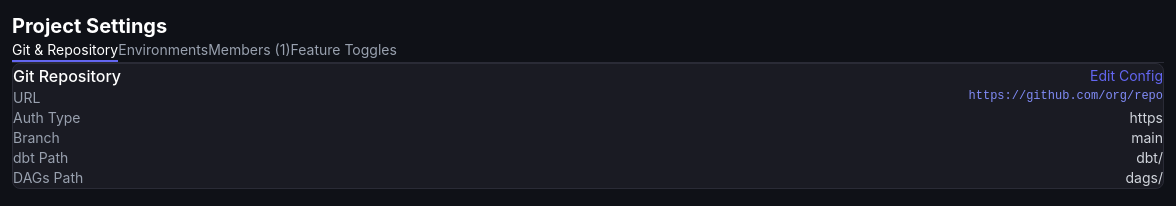
Test: SettingsPage › shows members tab with email and role badge
The width and height of the screenshot is (1176, 206).
Click the button "Members (1)". click: (249, 51)
box: top-left (208, 40), bottom-right (290, 62)
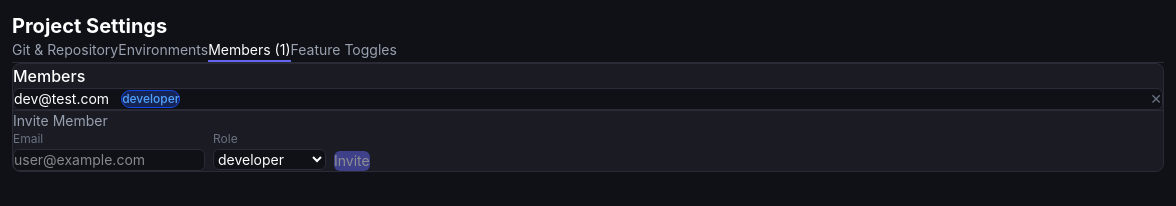
Expected: the text "dev@test.com" is shown, top-left (14, 89), bottom-right (109, 109)
Expected: the text "developer" is shown, top-left (121, 90), bottom-right (180, 108)
